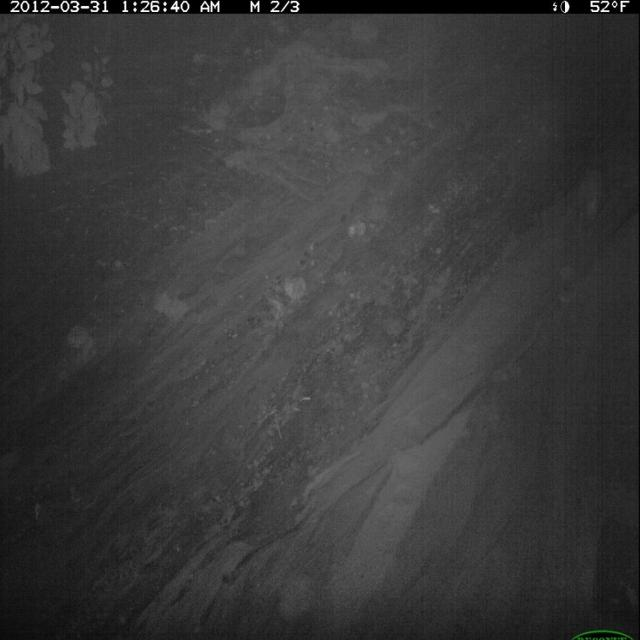opossum: (567, 152, 625, 236)
